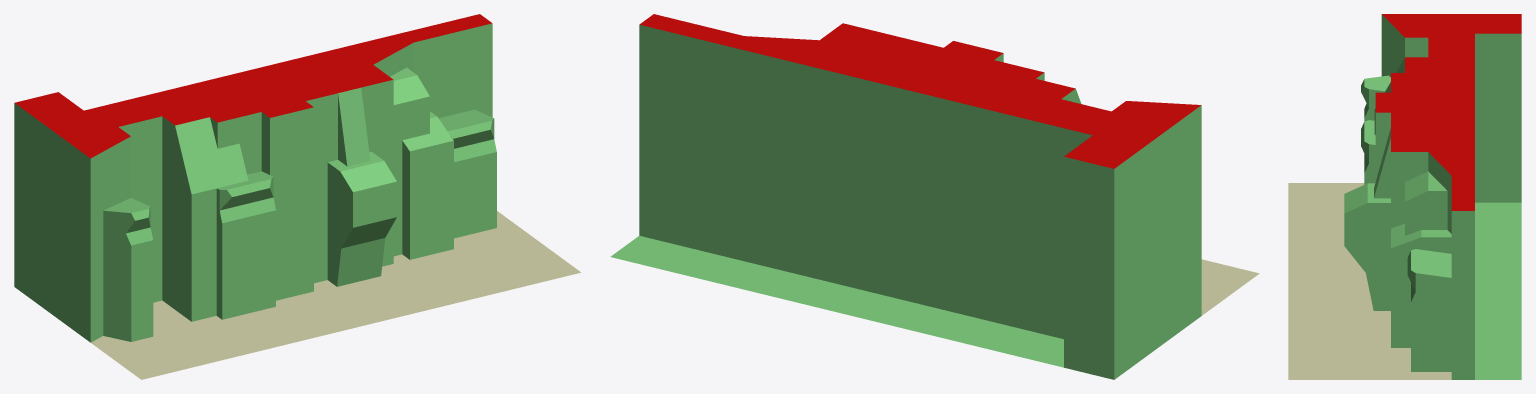
File: x_oo_ground_32_wall1_rmstrd.fbx
3 views of the same model, side by side, from view 1: azimuth 30°, elevation 25°; view 2: azimuth 150°, elevation 25°; view 3: azimuth 270°, elevation 25° (orthographic). The views are drawn at different scales.
Visible parts, largest first — view 1: x_oo_ground_32_wall1_rmstrd1; view 2: x_oo_ground_32_wall1_rmstrd1; view 3: x_oo_ground_32_wall1_rmstrd1.
Part boxes in pixels (x1,y1,x2,y2): x_oo_ground_32_wall1_rmstrd1: (14, 14, 580, 379); x_oo_ground_32_wall1_rmstrd1: (610, 14, 1259, 379); x_oo_ground_32_wall1_rmstrd1: (1288, 14, 1521, 379).
Bounding box in the file's own units: 10 × 4 × 5.
